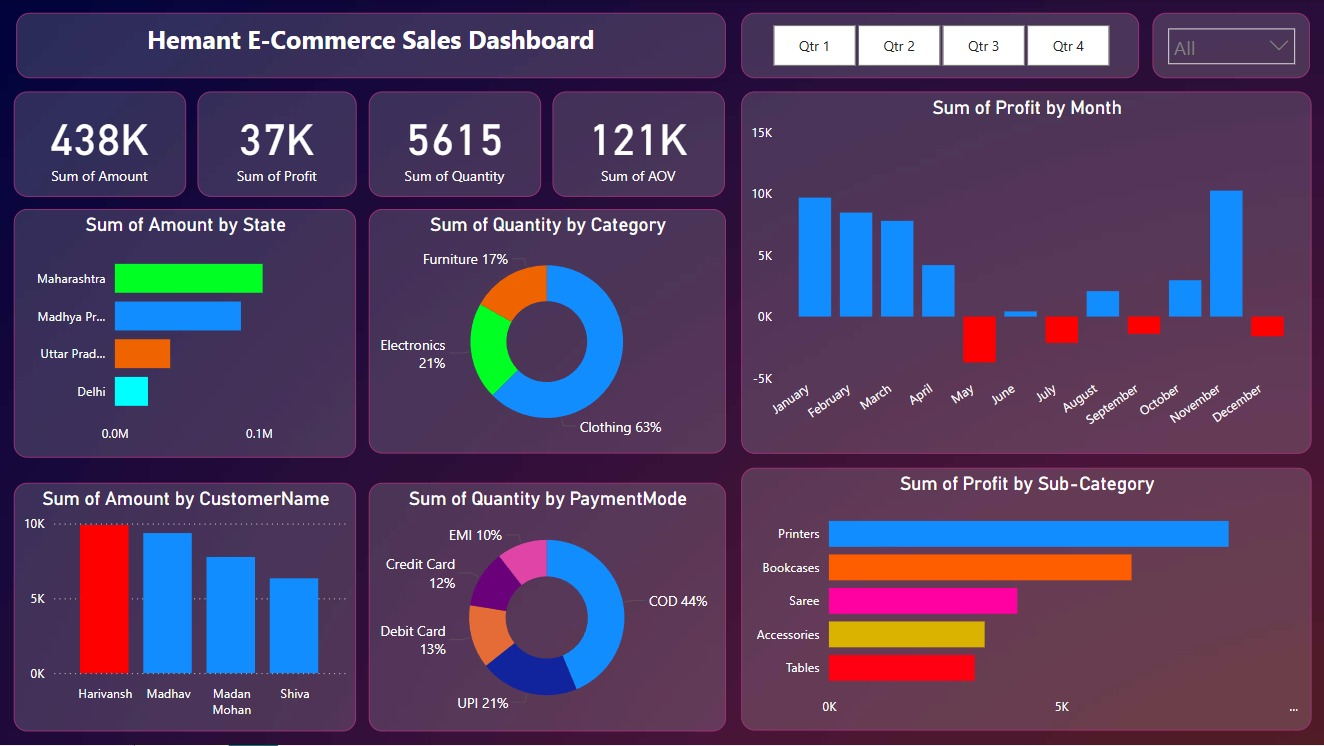

What the dashboard file says about the page in this screenshot:
{"tool":"powerbi","page":{"name":"Page 1","canvas":[1280,720],"ordinal":0},"visuals":[{"type":"textbox","box":[15.1,13.7,684.7,63.1],"z":0},{"type":"columnChart","fields":{"Category":["Orders.Order Date.Variation.Date Hierarchy.Month"],"Y":["Details.Profit"]},"box":[714.9,89.2,550.3,349.9],"z":1000},{"type":"barChart","fields":{"Category":["Details.Sub-Category"],"Y":["Details.Profit"]},"box":[714.9,452.8,550.3,253.9],"z":2000},{"type":"donutChart","fields":{"Category":["Details.Category"],"Y":["Details.Quantity"]},"box":[355.4,203.1,344.4,236],"z":3000},{"type":"donutChart","fields":{"Y":["Details.Quantity"],"Category":["Details.PaymentMode"]},"box":[355.4,466.6,344.4,240.1],"z":4000},{"type":"card","fields":{"Values":["Details.Amount"]},"box":[13.7,89.2,166,101.5],"z":5000},{"type":"card","fields":{"Values":["Details.Quantity"]},"box":[355.4,89.2,166,101.5],"z":6000},{"type":"card","fields":{"Values":["Details.Profit"]},"box":[190.7,89.2,153.7,101.5],"z":7000},{"type":"card","fields":{"Values":["Details.Column"]},"box":[533.8,89.2,166,101.5],"z":8000},{"type":"barChart","fields":{"Y":["Details.Amount"],"Category":["Orders.State"]},"box":[13.7,203.1,330.7,240.1],"z":9000},{"type":"columnChart","fields":{"Category":["Orders.CustomerName"],"Y":["Details.Amount"]},"box":[13.7,466.6,330.7,240.1],"z":10000},{"type":"slicer","fields":{"Values":["Orders.Order Date.Variation.Date Hierarchy.Quarter"]},"box":[714.9,13.7,384.2,63.1],"z":11000},{"type":"slicer","fields":{"Values":["Orders.State"]},"box":[1112.9,13.7,152.3,63.1],"z":12000}]}

Visuals, with their boxes in screenshot pixels (x1, y1, x2, y2), scaled from the page's 1280x720 canvas onto the 1324x746 screenshot:
textbox: {"x1": 16, "y1": 14, "x2": 724, "y2": 80}
columnChart - Orders.Order Date.Variation.Date Hierarchy.Month x Details.Profit: {"x1": 739, "y1": 92, "x2": 1309, "y2": 455}
barChart - Details.Sub-Category x Details.Profit: {"x1": 739, "y1": 469, "x2": 1309, "y2": 732}
donutChart - Details.Category x Details.Quantity: {"x1": 368, "y1": 210, "x2": 724, "y2": 455}
donutChart - Details.Quantity x Details.PaymentMode: {"x1": 368, "y1": 483, "x2": 724, "y2": 732}
card - Details.Amount: {"x1": 14, "y1": 92, "x2": 186, "y2": 198}
card - Details.Quantity: {"x1": 368, "y1": 92, "x2": 539, "y2": 198}
card - Details.Profit: {"x1": 197, "y1": 92, "x2": 356, "y2": 198}
card - Details.Column: {"x1": 552, "y1": 92, "x2": 724, "y2": 198}
barChart - Details.Amount x Orders.State: {"x1": 14, "y1": 210, "x2": 356, "y2": 459}
columnChart - Orders.CustomerName x Details.Amount: {"x1": 14, "y1": 483, "x2": 356, "y2": 732}
slicer - Orders.Order Date.Variation.Date Hierarchy.Quarter: {"x1": 739, "y1": 14, "x2": 1137, "y2": 80}
slicer - Orders.State: {"x1": 1151, "y1": 14, "x2": 1309, "y2": 80}
